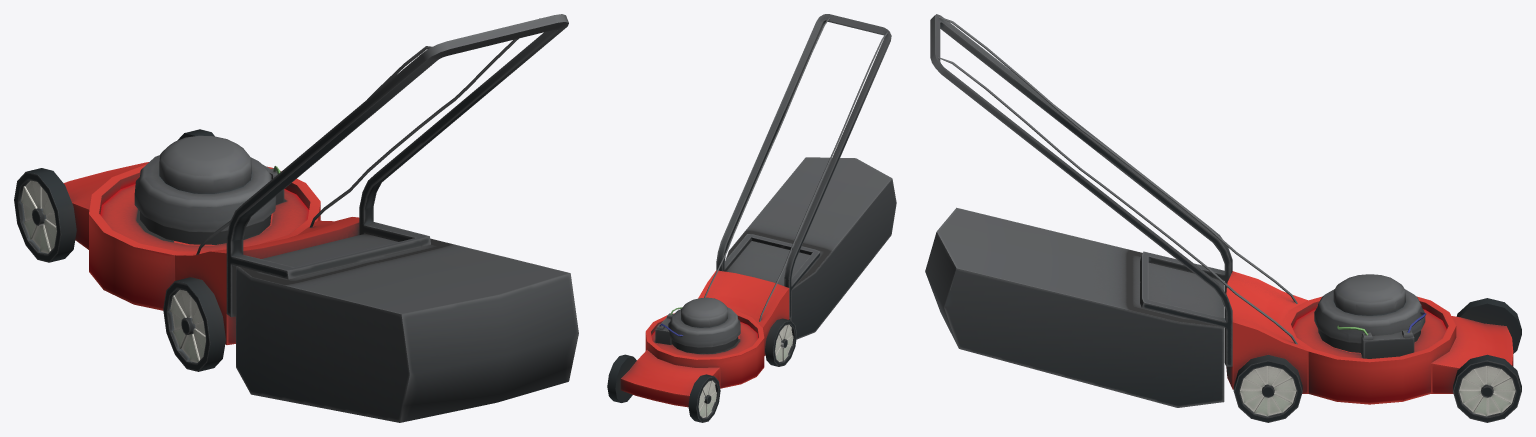
The model's file is lawnmower.glb.
3 renders of one model, left to right at view 1: azimuth 30°, elevation 25°; view 2: azimuth 150°, elevation 25°; view 3: azimuth 270°, elevation 25°, orthographic. The views are drawn at different scales.
Visible parts, largest first — view 1: Bag, HandleBar, Engine, MainBody, WheelBL, WheelFL, BackBody, FrontBody; view 2: Bag, HandleBar, MainBody, Engine, BackBody, FrontBody, WheelFL, WheelBL, WheelFR; view 3: Bag, HandleBar, MainBody, Engine, BackBody, WheelBR, WheelFR, FrontBody, WheelFL.
Boxes of the visible parts, x1=… form: Bag: x1=236, y1=233, x2=578, y2=422; HandleBar: x1=196, y1=14, x2=568, y2=317; Engine: x1=134, y1=135, x2=284, y2=244; MainBody: x1=89, y1=164, x2=320, y2=310; WheelBL: x1=163, y1=277, x2=225, y2=371; WheelFL: x1=14, y1=168, x2=76, y2=262; BackBody: x1=175, y1=217, x2=359, y2=344; FrontBody: x1=63, y1=162, x2=148, y2=249; Bag: x1=725, y1=157, x2=896, y2=339; HandleBar: x1=704, y1=14, x2=891, y2=321; MainBody: x1=645, y1=309, x2=764, y2=388; Engine: x1=655, y1=297, x2=740, y2=353; BackBody: x1=698, y1=270, x2=789, y2=355; FrontBody: x1=620, y1=350, x2=720, y2=407; WheelFL: x1=688, y1=374, x2=720, y2=422; WheelBL: x1=765, y1=318, x2=796, y2=366; WheelFR: x1=607, y1=354, x2=636, y2=402; Bag: x1=925, y1=207, x2=1224, y2=407; HandleBar: x1=930, y1=14, x2=1297, y2=366; MainBody: x1=1283, y1=296, x2=1456, y2=404; Engine: x1=1314, y1=274, x2=1426, y2=358; BackBody: x1=1226, y1=271, x2=1308, y2=393; WheelBR: x1=1233, y1=354, x2=1302, y2=422; WheelFR: x1=1453, y1=354, x2=1521, y2=422; FrontBody: x1=1431, y1=316, x2=1513, y2=393; WheelFL: x1=1456, y1=298, x2=1521, y2=353.
Size of the model in its own units: 134 by 308 by 467.
Materials: 1 (1 with a texture image).
